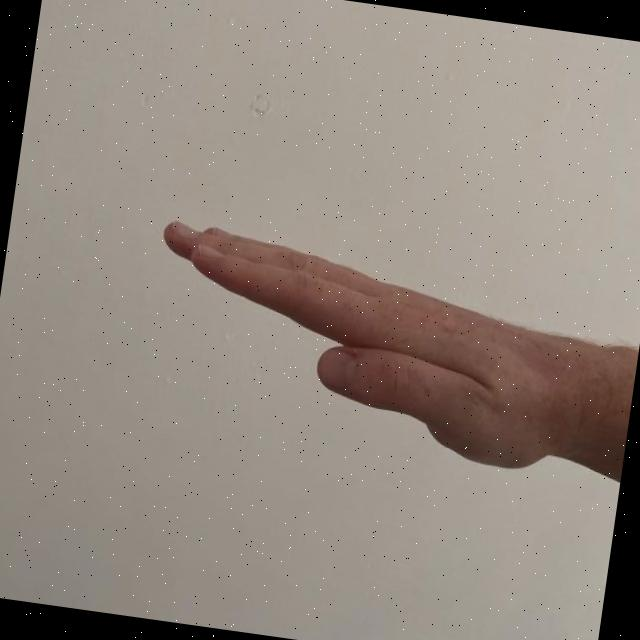papper: (127, 213, 588, 478)
